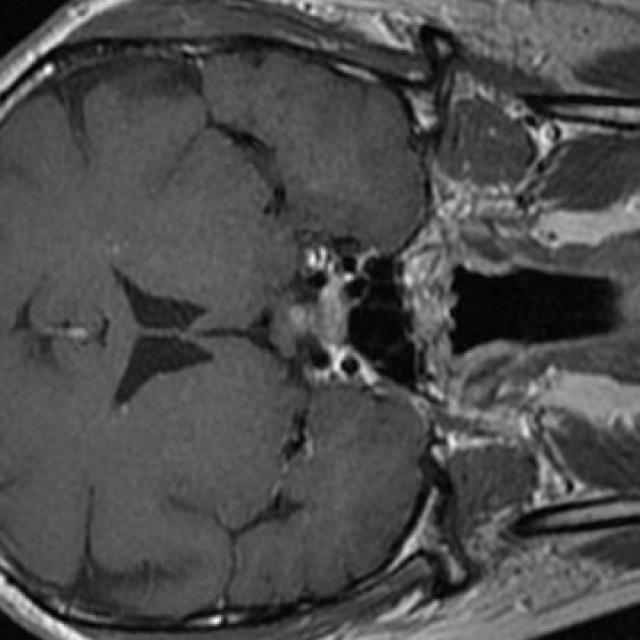pituitary: (287, 278, 351, 353)
